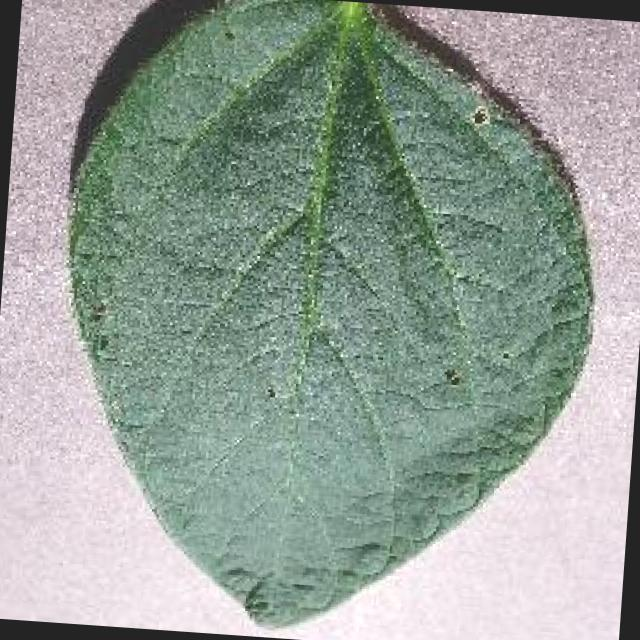healthy: (71, 0, 590, 626)
